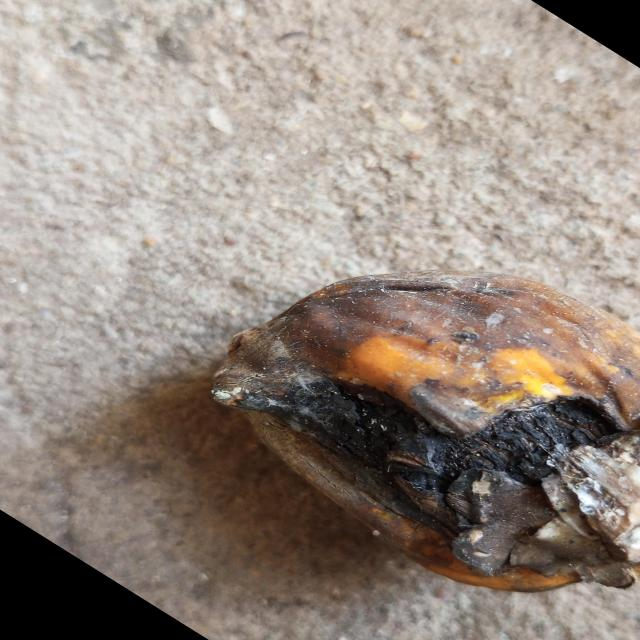damaged: (208, 273, 640, 595)
